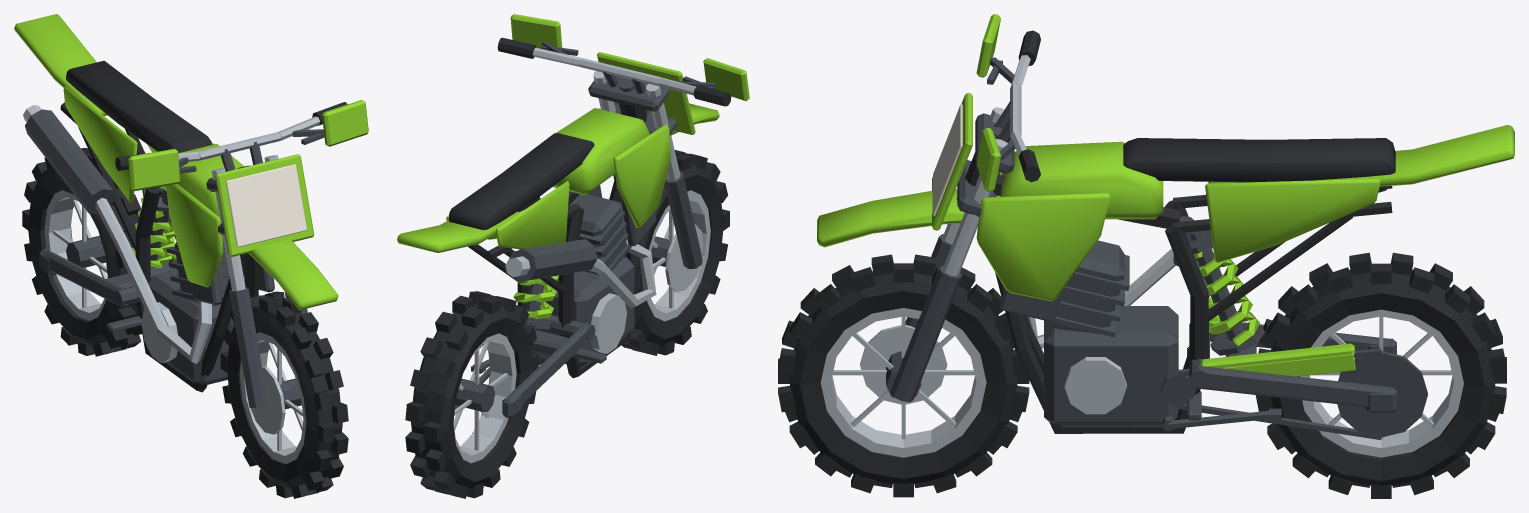
The model's file is lime-dirt-bike.glb.
3 views of the same model, side by side, from view 1: azimuth 30°, elevation 25°; view 2: azimuth 150°, elevation 25°; view 3: azimuth 270°, elevation 25° (orthographic). The views are drawn at different scales.
Visible parts, largest first — view 1: DirtBike, Handlebars, Wheel_Front, Wheel_Rear; view 2: DirtBike, Wheel_Rear, Handlebars, Wheel_Front; view 3: DirtBike, Wheel_Front, Wheel_Rear, Handlebars.
Part boxes in pixels (x1,y1,x2,y2): DirtBike: (14, 14, 274, 392); Handlebars: (115, 100, 368, 407); Wheel_Front: (220, 291, 348, 498); Wheel_Rear: (22, 148, 142, 356); DirtBike: (397, 103, 670, 418); Wheel_Rear: (405, 291, 538, 498); Handlebars: (497, 14, 749, 268); Wheel_Front: (621, 150, 729, 355); DirtBike: (957, 125, 1514, 439); Wheel_Front: (778, 254, 1029, 497); Wheel_Rear: (1255, 252, 1506, 498); Handlebars: (817, 14, 1040, 402).
Size of the model in its own units: 3.23 by 4.32 by 7.1.
